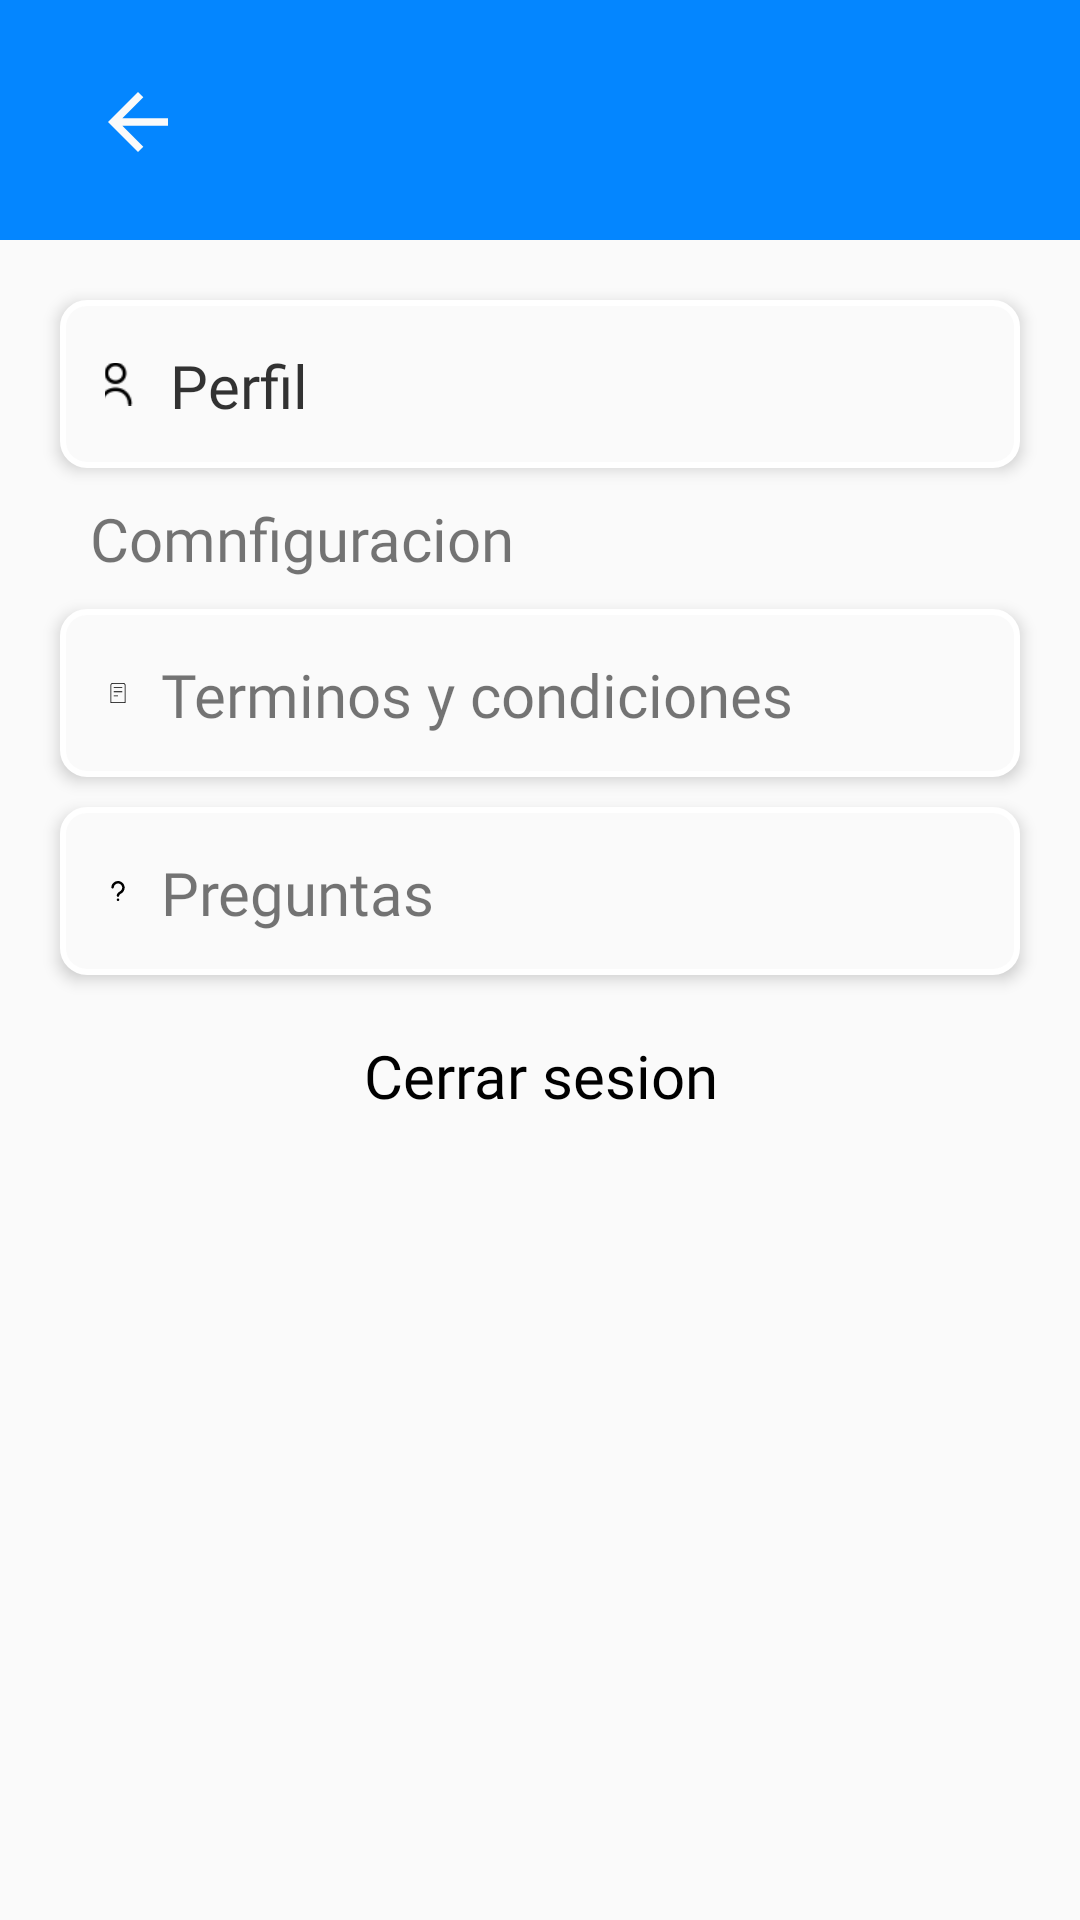

Icons on this 1080 × 1920 Android screen, each with its box as {"x1": x1, "y1": y1, "x2": x2, "y2": y2}:
back: {"x1": 108, "y1": 92, "x2": 168, "y2": 152}
user: {"x1": 105, "y1": 363, "x2": 133, "y2": 406}
